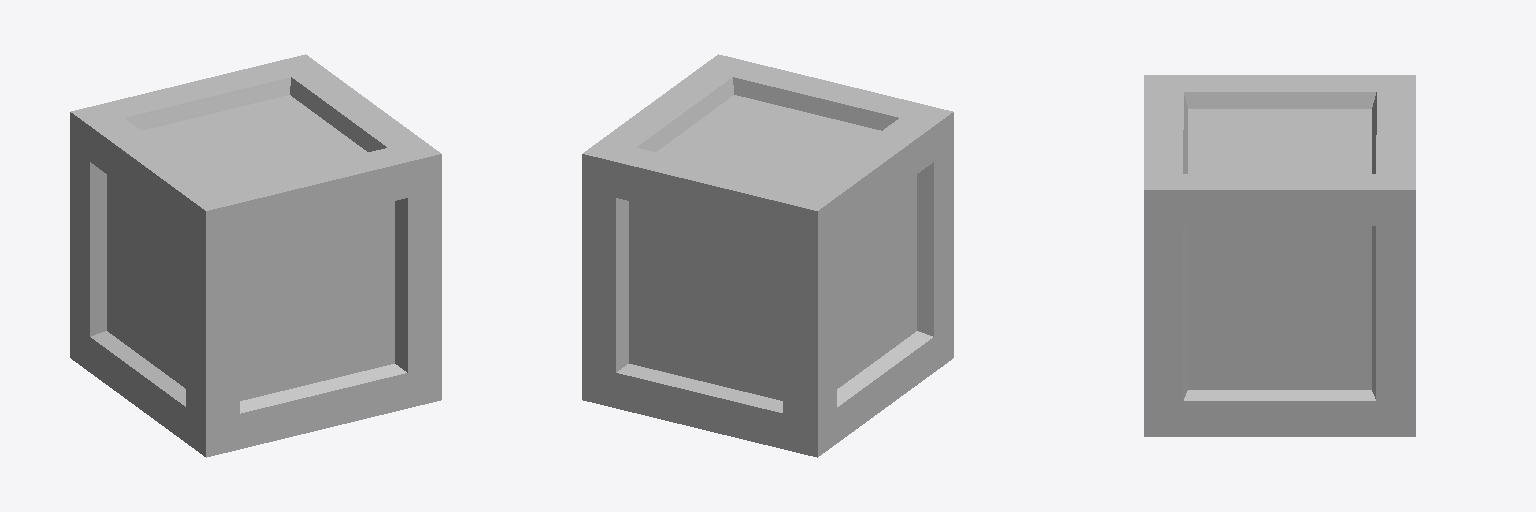
Rendered from crate.obj.
The picture shows the model from 3 angles: view 1: azimuth 30°, elevation 25°; view 2: azimuth 150°, elevation 25°; view 3: azimuth 270°, elevation 25°; orthographic projection.
Visible parts, largest first — view 1: Wood_Box_low.005_Cube.007; view 2: Wood_Box_low.005_Cube.007; view 3: Wood_Box_low.005_Cube.007.
Boxes of the visible parts, x1=… form: Wood_Box_low.005_Cube.007: x1=70, y1=54, x2=441, y2=457; Wood_Box_low.005_Cube.007: x1=582, y1=54, x2=953, y2=457; Wood_Box_low.005_Cube.007: x1=1144, y1=75, x2=1415, y2=436.
Bounding box in the file's own units: 1.78 × 1.77 × 1.78.